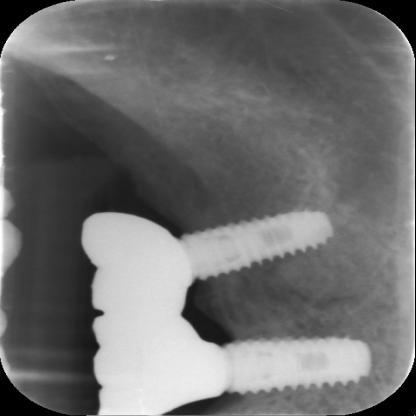ITI: (173, 194, 348, 295), (218, 336, 374, 393)
